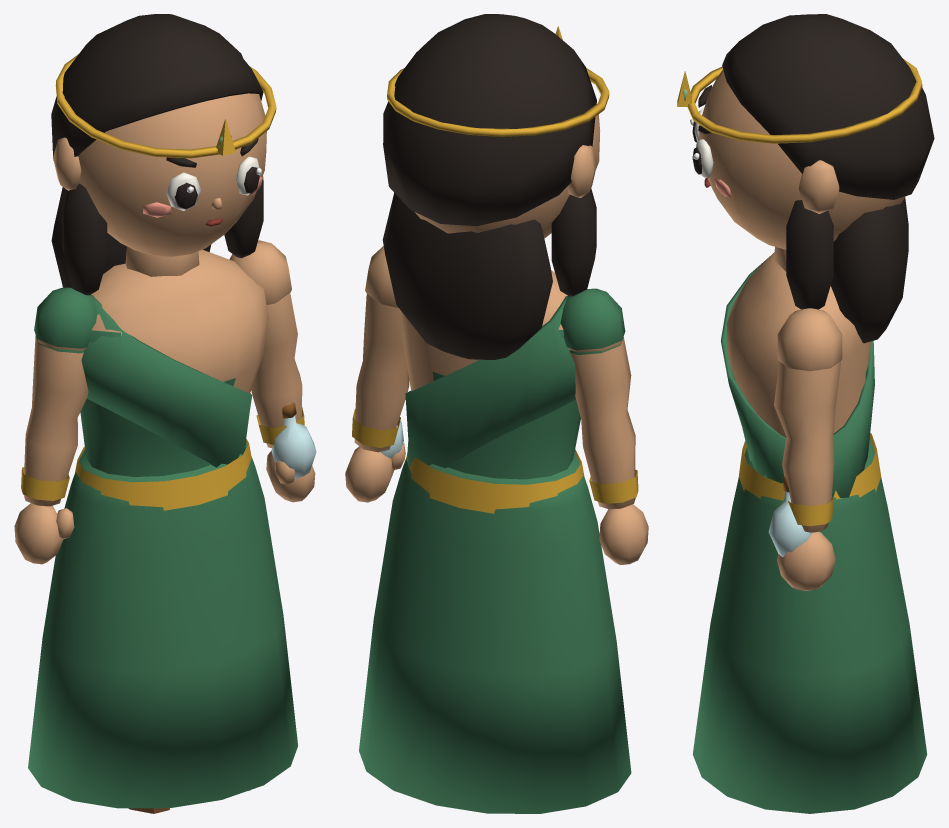
File: medea.glb
3 renders of one model, left to right at view 1: azimuth 30°, elevation 25°; view 2: azimuth 150°, elevation 25°; view 3: azimuth 270°, elevation 25°, orthographic.
Parts seen in each view (by area): view 1: huefte, rumpf, haare, kopf, armL, armR, kopfschmuck, itemR, augeL, augeR; view 2: huefte, haare, rumpf, armL, armR, kopf, kopfschmuck; view 3: huefte, haare, rumpf, armR, kopf, kopfschmuck, itemR, augeR.
Boxes of the visible parts, x1=… form: huefte: x1=28, y1=442, x2=297, y2=808; rumpf: x1=75, y1=249, x2=268, y2=510; haare: x1=51, y1=14, x2=263, y2=295; kopf: x1=53, y1=93, x2=266, y2=276; armL: x1=14, y1=287, x2=97, y2=564; armR: x1=229, y1=240, x2=315, y2=502; kopfschmuck: x1=55, y1=54, x2=276, y2=158; itemR: x1=271, y1=402, x2=316, y2=478; augeL: x1=166, y1=172, x2=201, y2=210; augeR: x1=236, y1=156, x2=261, y2=195; huefte: x1=359, y1=453, x2=631, y2=813; haare: x1=382, y1=14, x2=596, y2=359; rumpf: x1=401, y1=270, x2=584, y2=513; armL: x1=560, y1=288, x2=648, y2=564; armR: x1=345, y1=246, x2=409, y2=502; kopf: x1=415, y1=114, x2=600, y2=238; kopfschmuck: x1=387, y1=26, x2=609, y2=136; huefte: x1=692, y1=437, x2=927, y2=813; haare: x1=722, y1=14, x2=934, y2=343; rumpf: x1=721, y1=252, x2=881, y2=500; armR: x1=774, y1=308, x2=842, y2=590; kopf: x1=699, y1=69, x2=905, y2=271; kopfschmuck: x1=677, y1=58, x2=922, y2=143; itemR: x1=768, y1=476, x2=812, y2=557; augeR: x1=692, y1=139, x2=713, y2=177.
Size of the model in its own units: 0.9329 by 2.29 by 0.7125.
